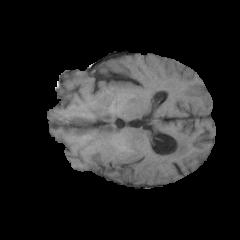glioma: (79, 129, 188, 183)
